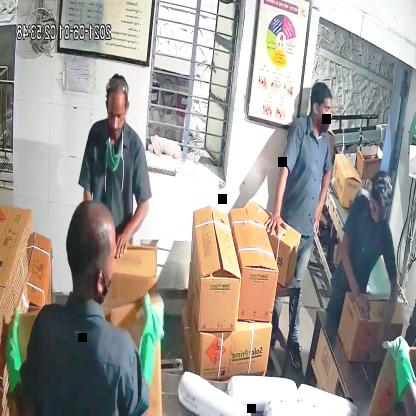no_goggles: (102, 102, 132, 128)
